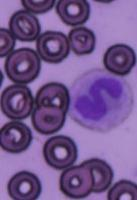N: (68, 68, 134, 131)
